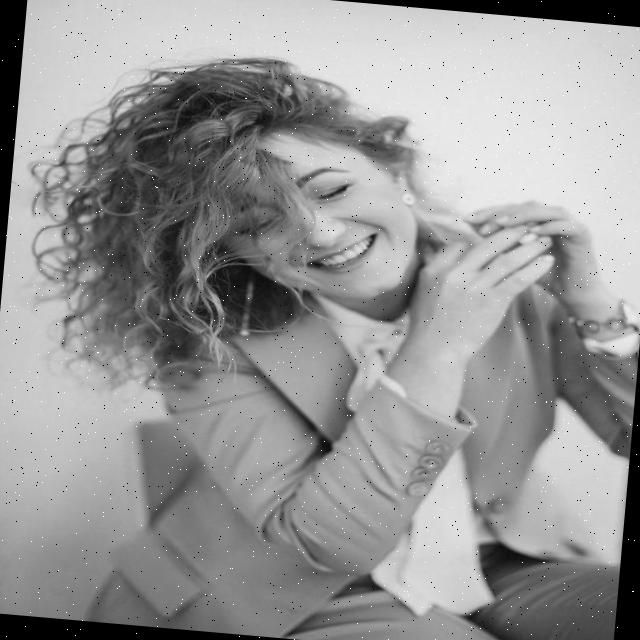Happiness: (212, 125, 424, 306)
